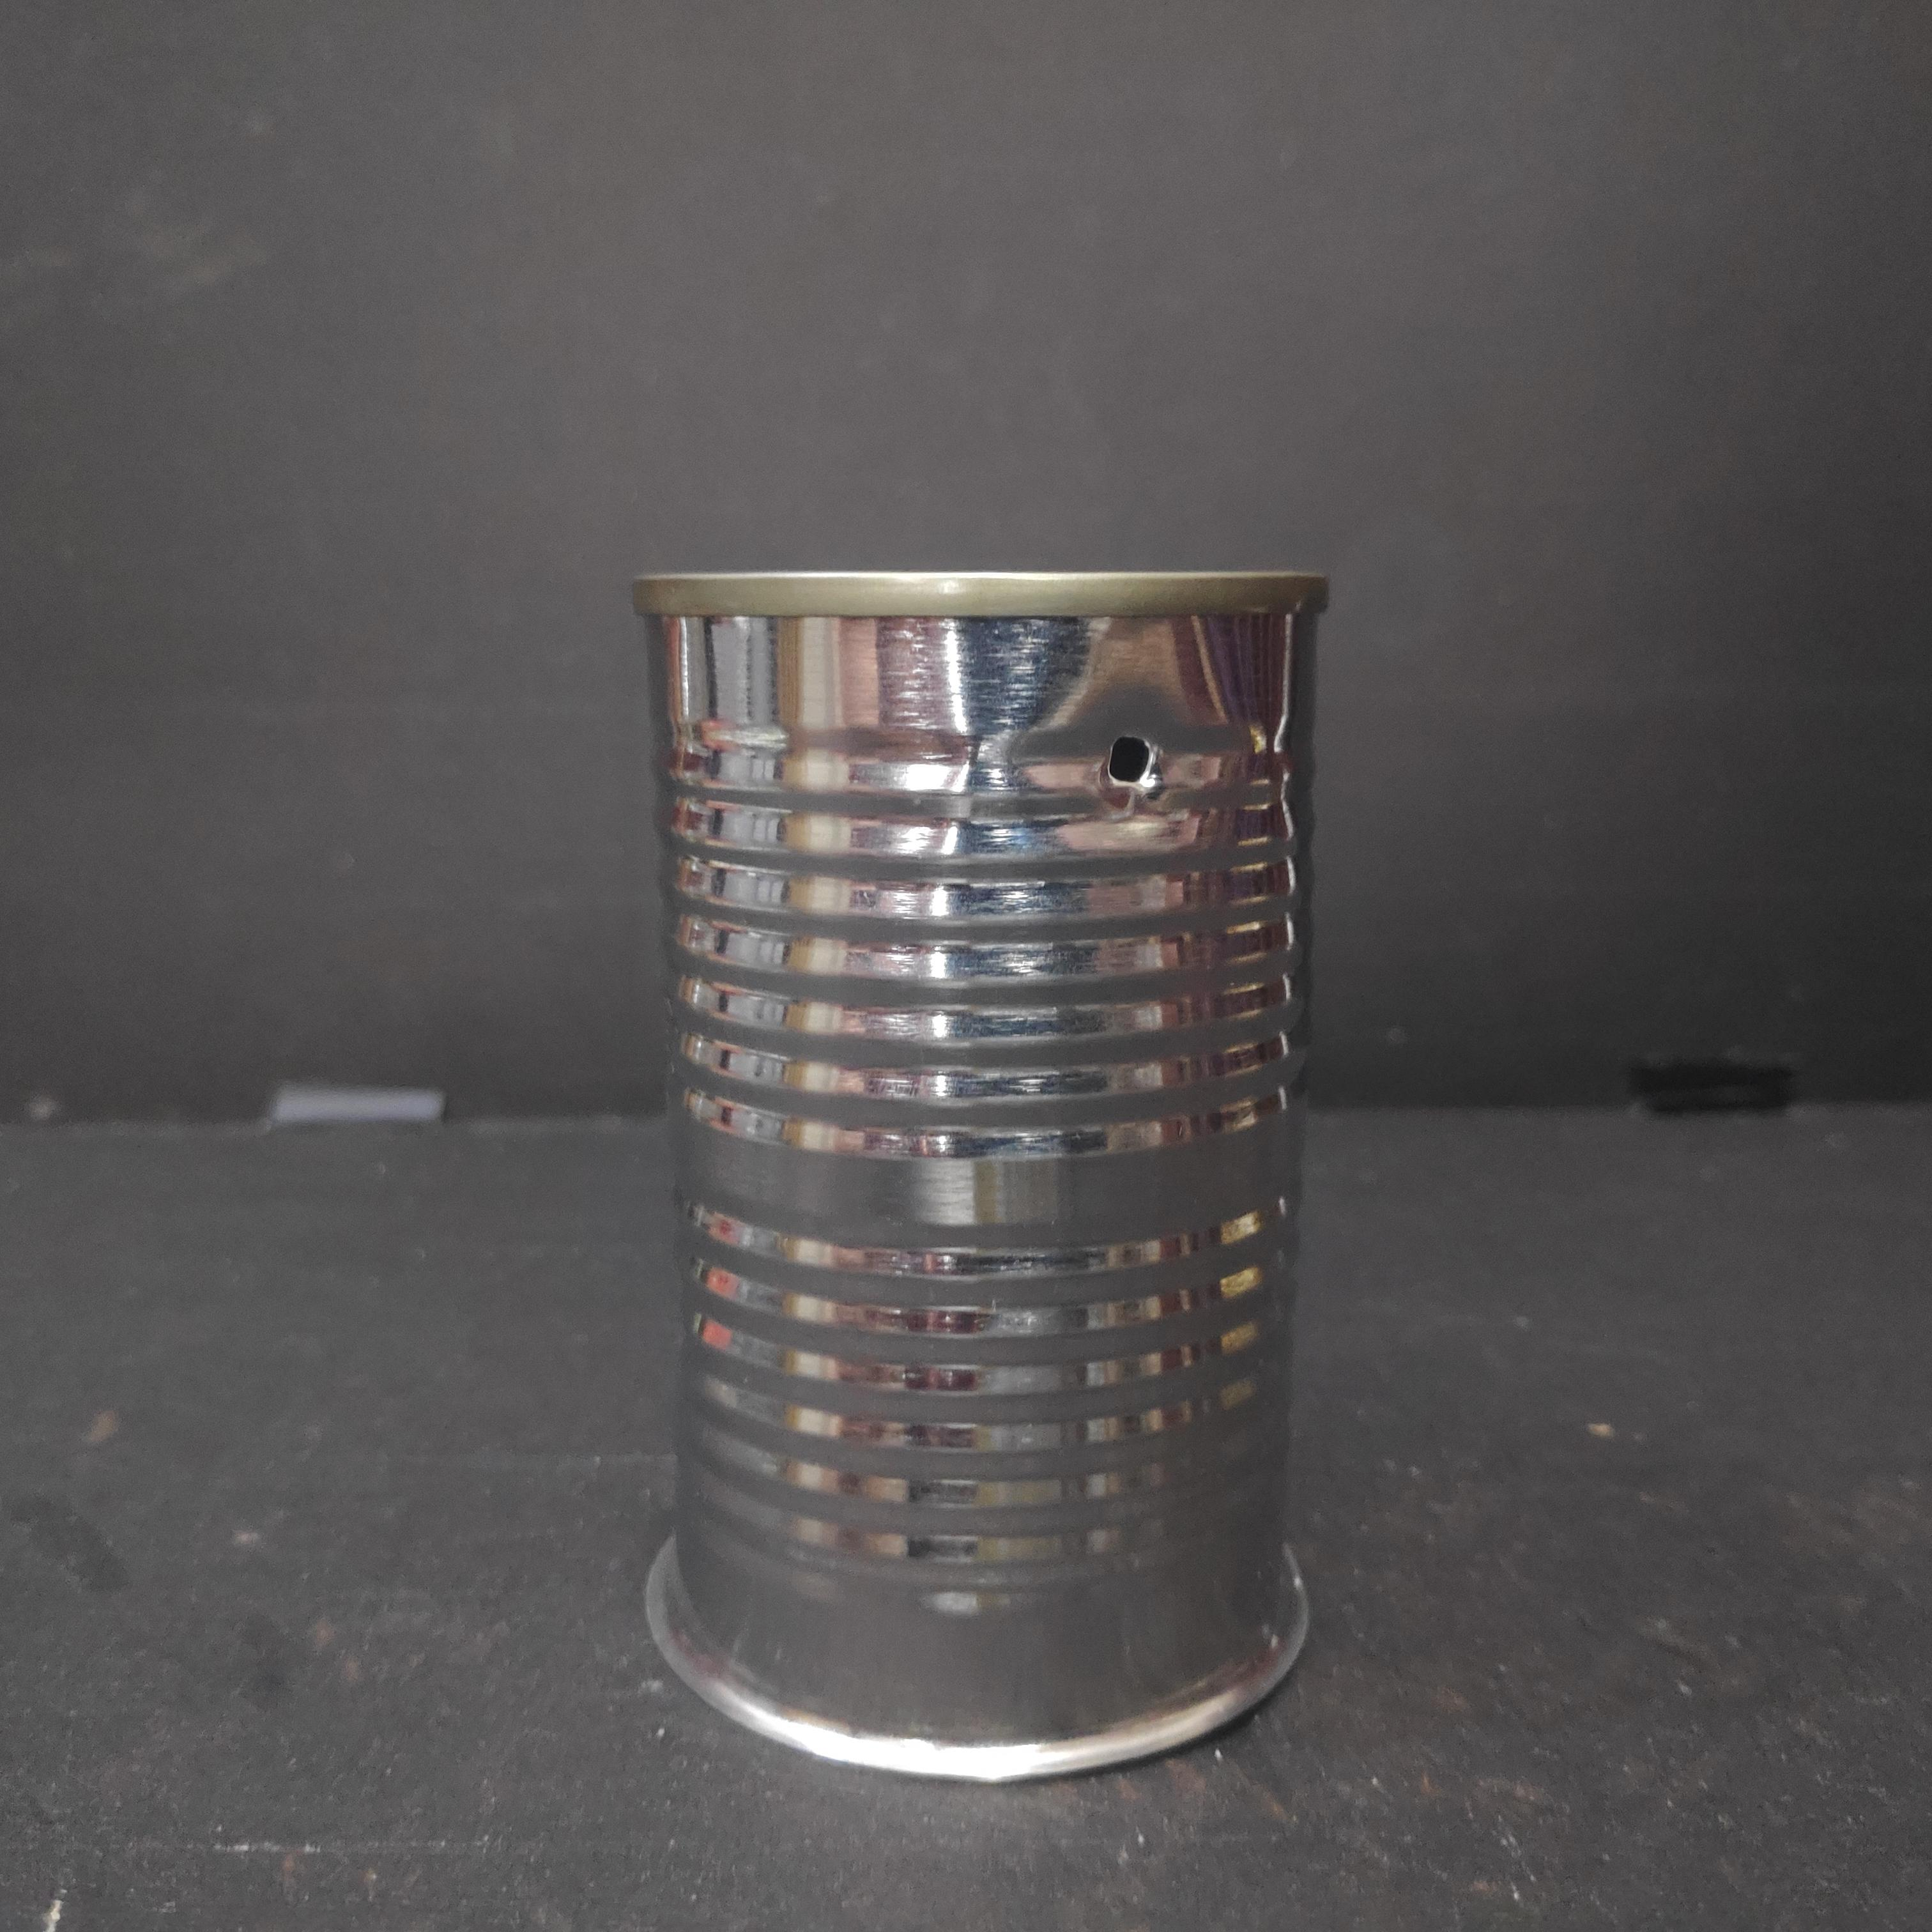Critical Defect: (624, 556, 1337, 1793)
